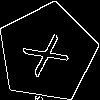X: (22, 27, 78, 78)
